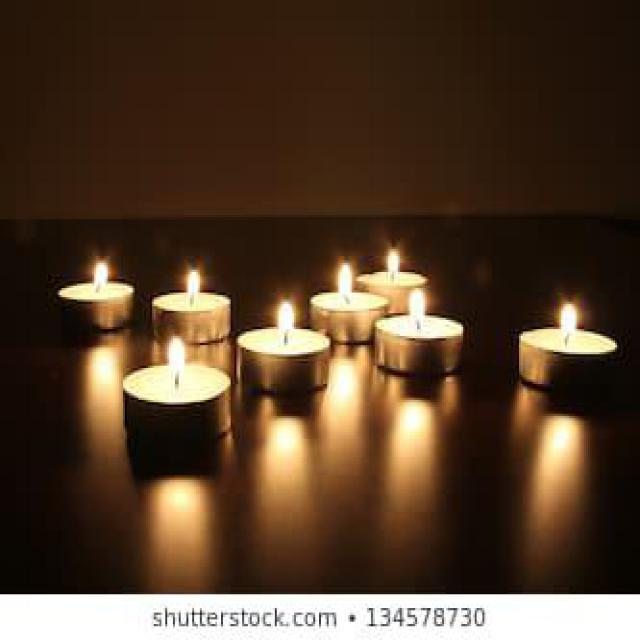Fire: (558, 302, 580, 338), (169, 335, 187, 376), (409, 284, 427, 322), (336, 262, 352, 298), (278, 302, 296, 332), (92, 260, 110, 288), (386, 248, 400, 276), (187, 270, 201, 295)
